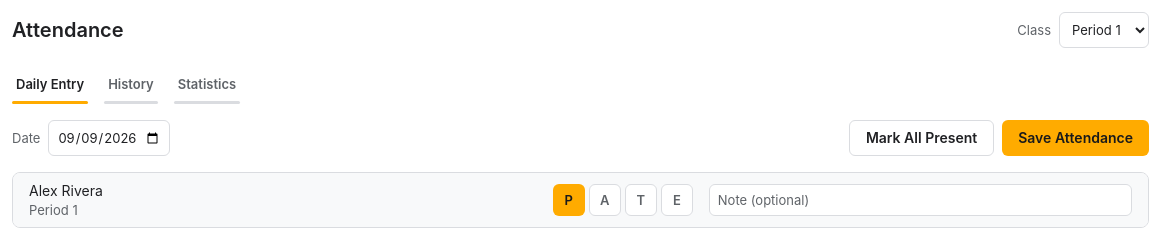
Test: AttendancePage class filter › defaults to the first course alphabetically and scopes to the chosen class
Expected: the button "Alex Rivera" is shown, [29,181,103,201]
Expected: the text "Sam Lee" is not shown
Select "Period 2" in the dropdown named "Filter by class": (1104, 30) [1059,12,1149,48]
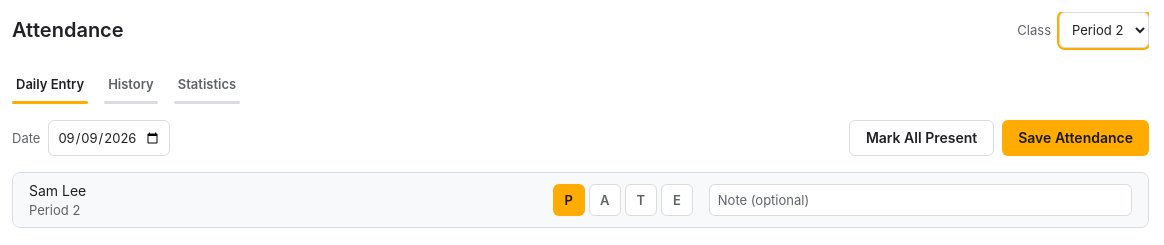
Expected: the button "Sam Lee" is shown, [29,181,86,201]
Expected: the button "Alex Rivera" is gone
